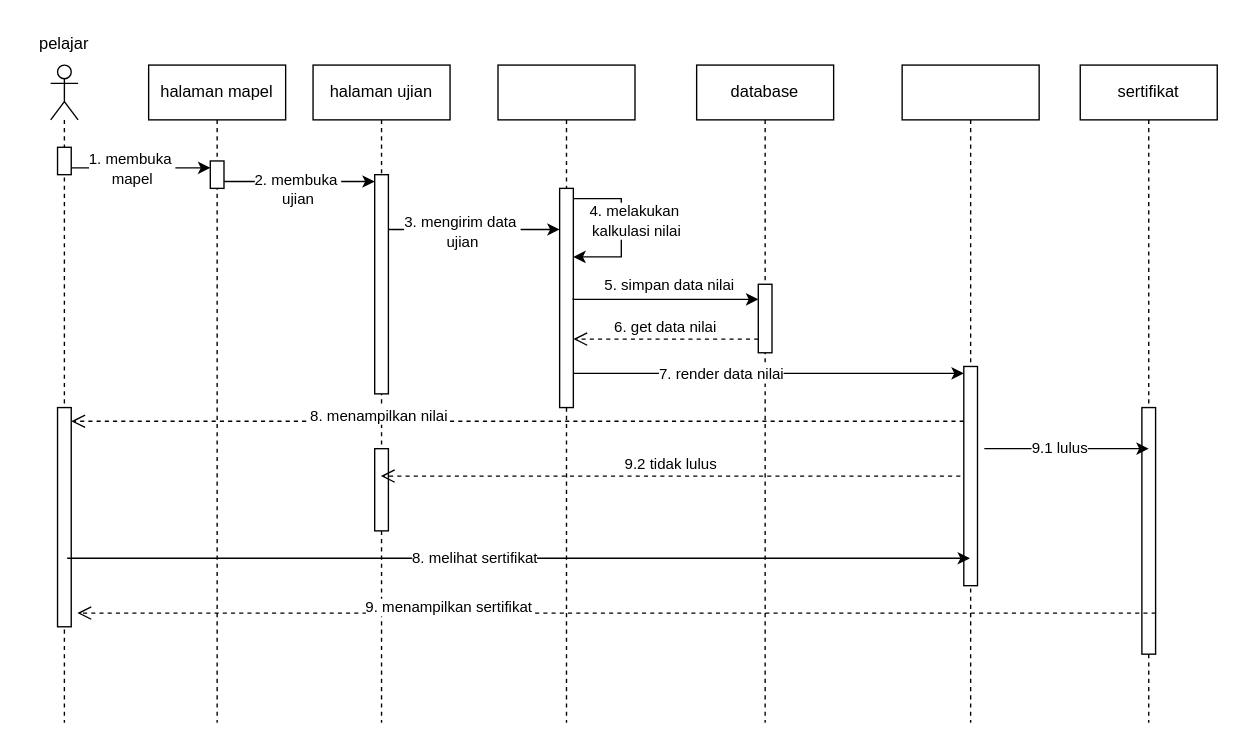
Some shapes in this 1243 by 747 pixel diagram are drawn without their labels. The shapes that lost their labels are listed below. From the top down, each one's centre as x and y in pixels, then its label:
point 566,393: backend
point 970,393: halaman nilai
